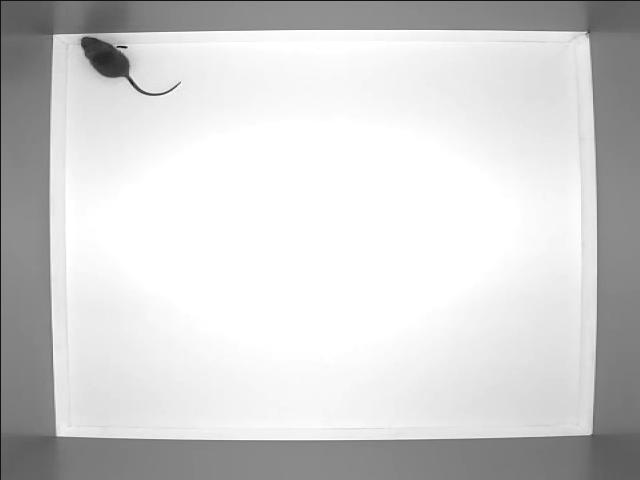Tikus: (75, 36, 184, 98)
